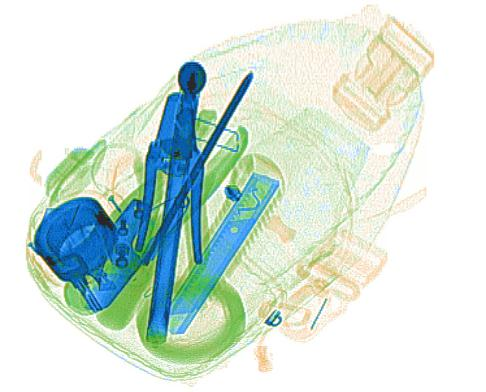knife: (159, 152, 285, 339)
